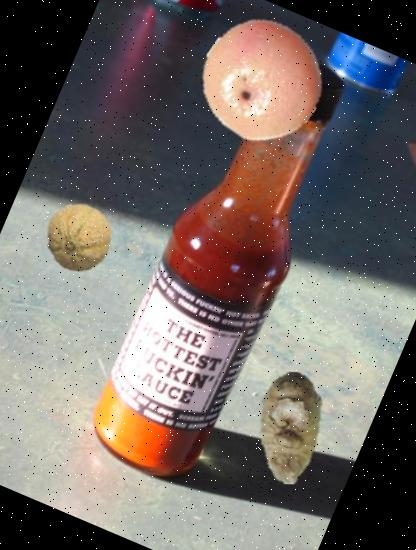Cantaloupe: (34, 193, 124, 283)
Ginger: (216, 354, 364, 502)
Grapefruit: (182, 1, 342, 160)
